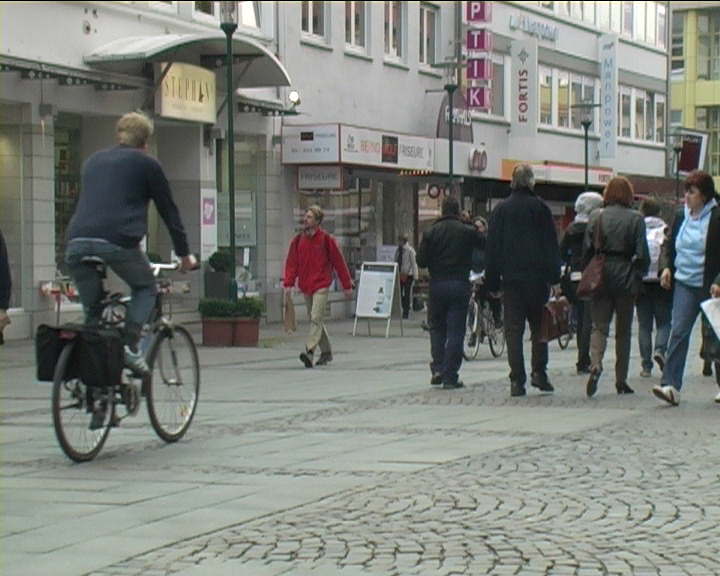deflection: (285, 207, 341, 257)
undeflect: (93, 111, 165, 192), (494, 161, 560, 235)
